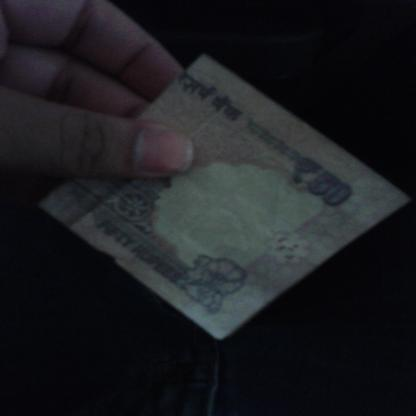Old50Back: (35, 53, 412, 340)
